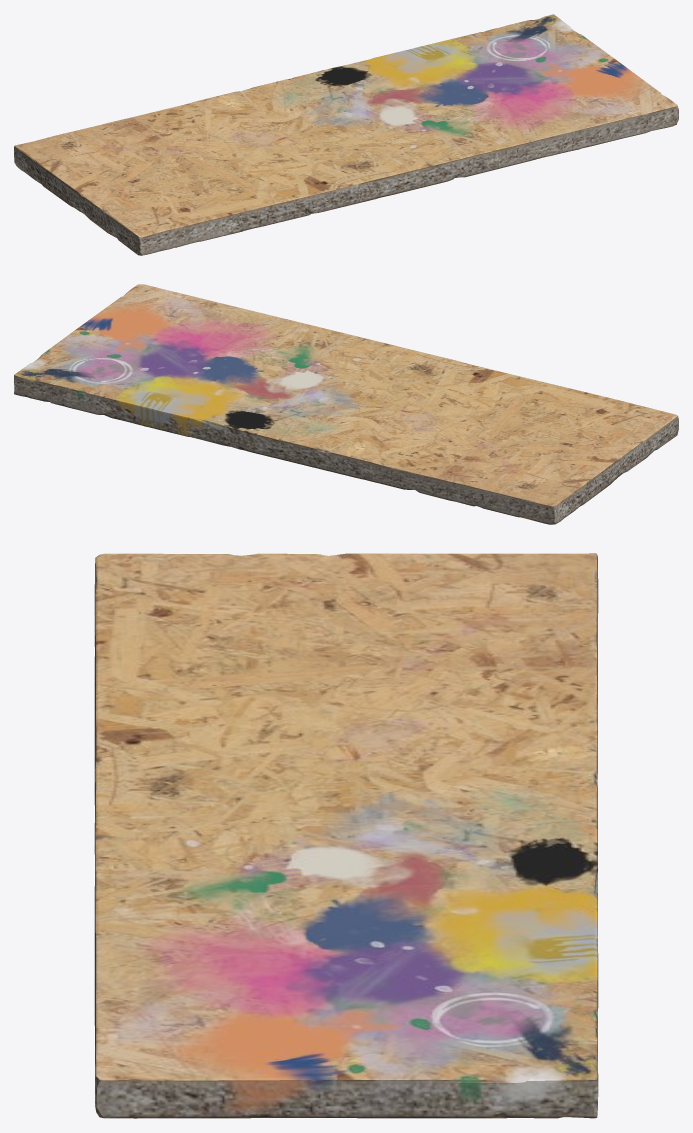
Rendered from forest_board_rotten.glb.
The picture shows the model from 3 angles, top to bottom: view 1: azimuth 30°, elevation 25°; view 2: azimuth 150°, elevation 25°; view 3: azimuth 270°, elevation 25°; orthographic projection. The views are drawn at different scales.
Parts seen in each view (by area): view 1: forest_board_rotten; view 2: forest_board_rotten; view 3: forest_board_rotten.
Part boxes in pixels (x1,y1,x2,y2): forest_board_rotten: [14, 14, 678, 255]; forest_board_rotten: [14, 284, 678, 524]; forest_board_rotten: [94, 553, 598, 1118].
Bounding box in the file's own units: 0.5763 × 0.0205 × 0.2326.
1 material, 1 textured.
